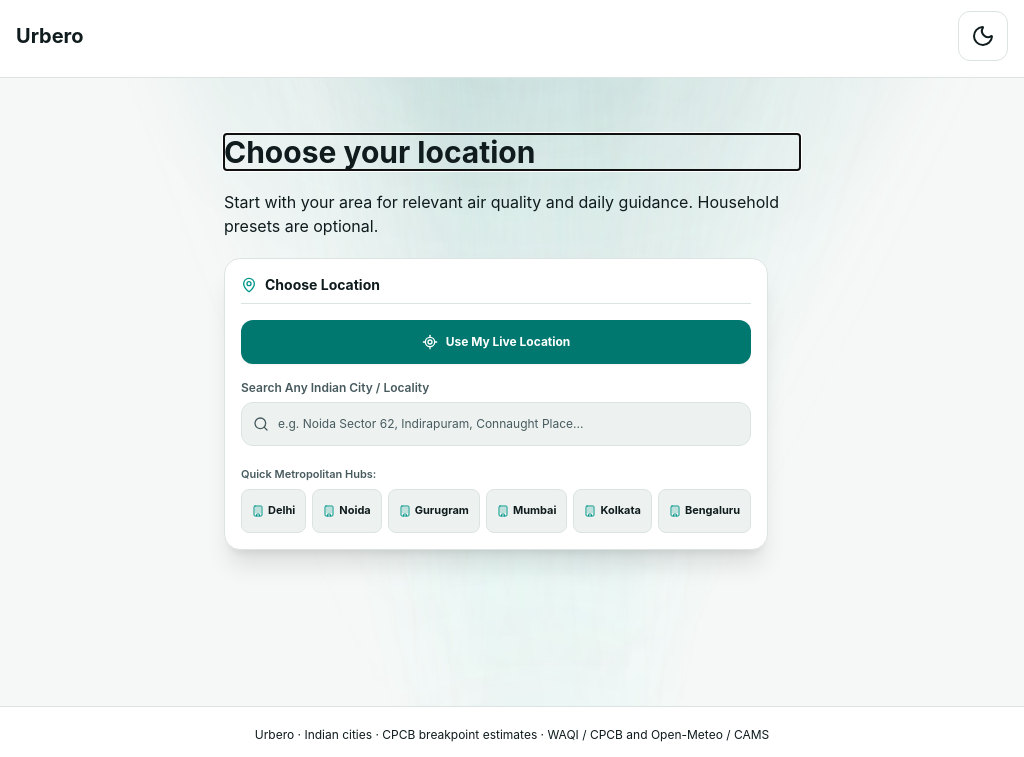
it: App Integration & Accessibility › sends a travel question for the selected location and displays the validated suggestion
This screenshot has width=1024, height=757.
Click the button "Noida" at (347, 510), box top-left (312, 488), bottom-right (382, 532)
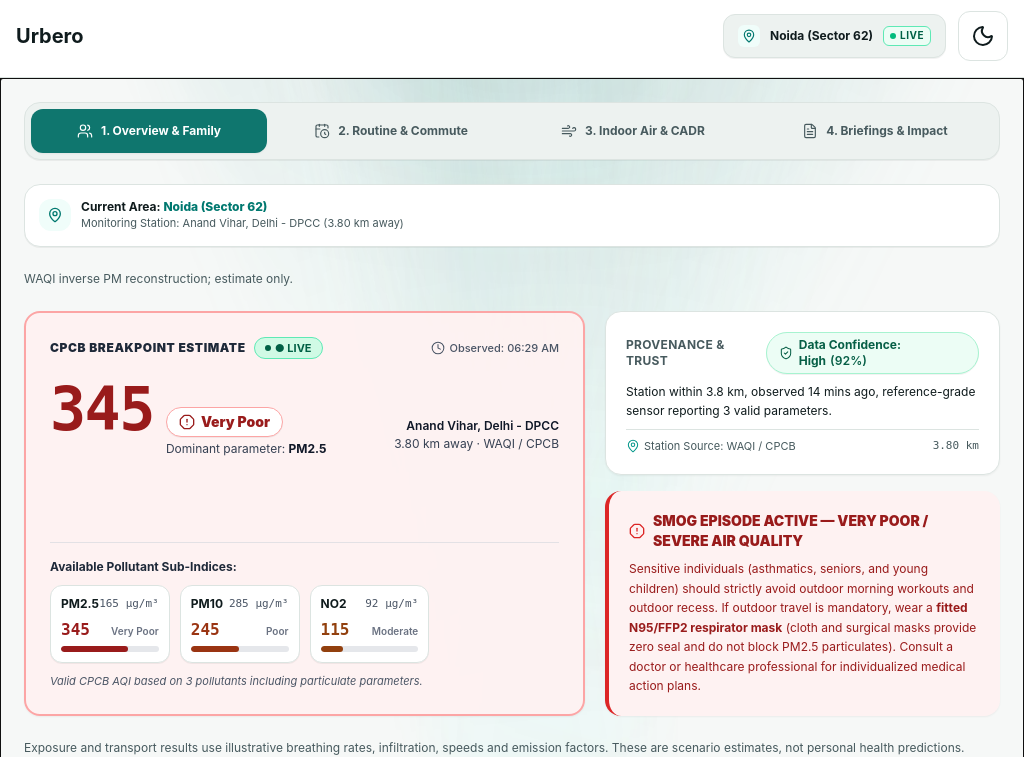
Click the tab "2. Routine & Commute" at (391, 131), box top-left (273, 109), bottom-right (509, 153)
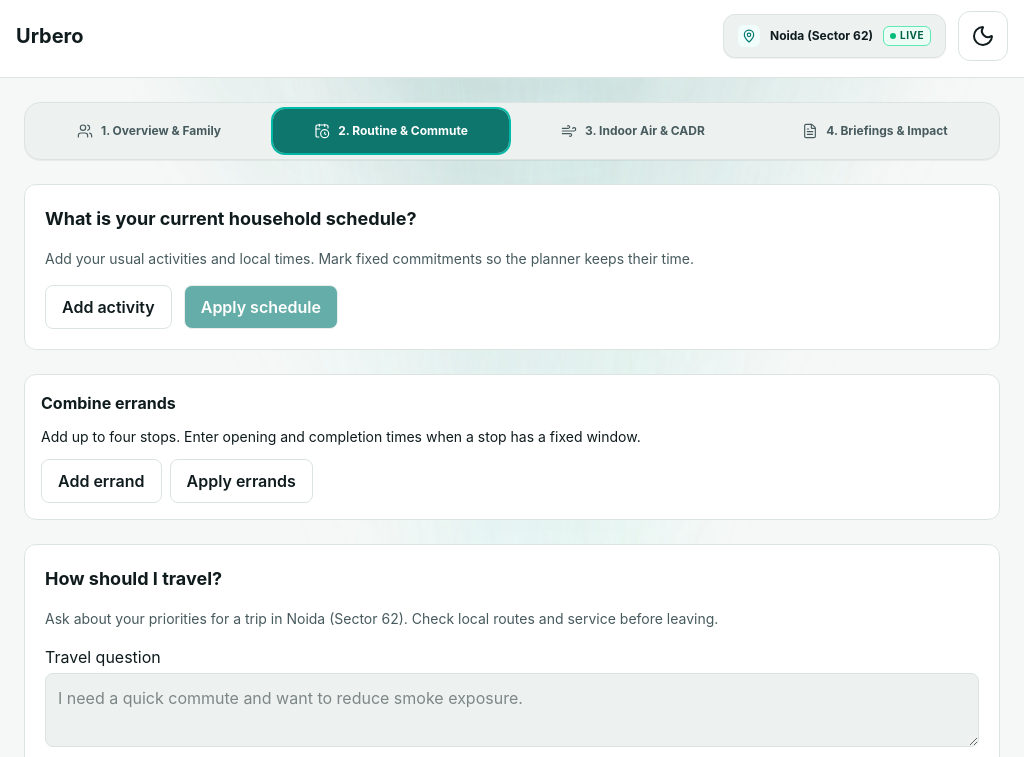
Type "I prefer public transport" into the text box labelled "Travel question" at (512, 710), box top-left (45, 673), bottom-right (979, 747)
(page scrolled)
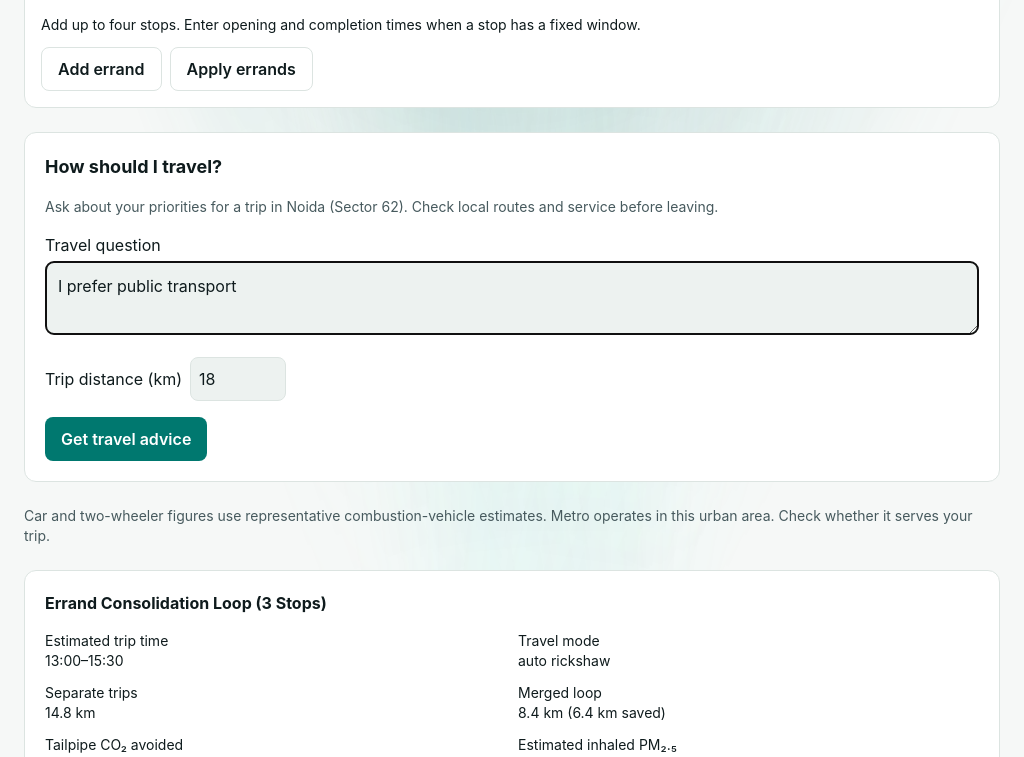
Replace the text in the number field labelled "Trip distance (km)" with "4" at (238, 379), box top-left (190, 357), bottom-right (286, 401)
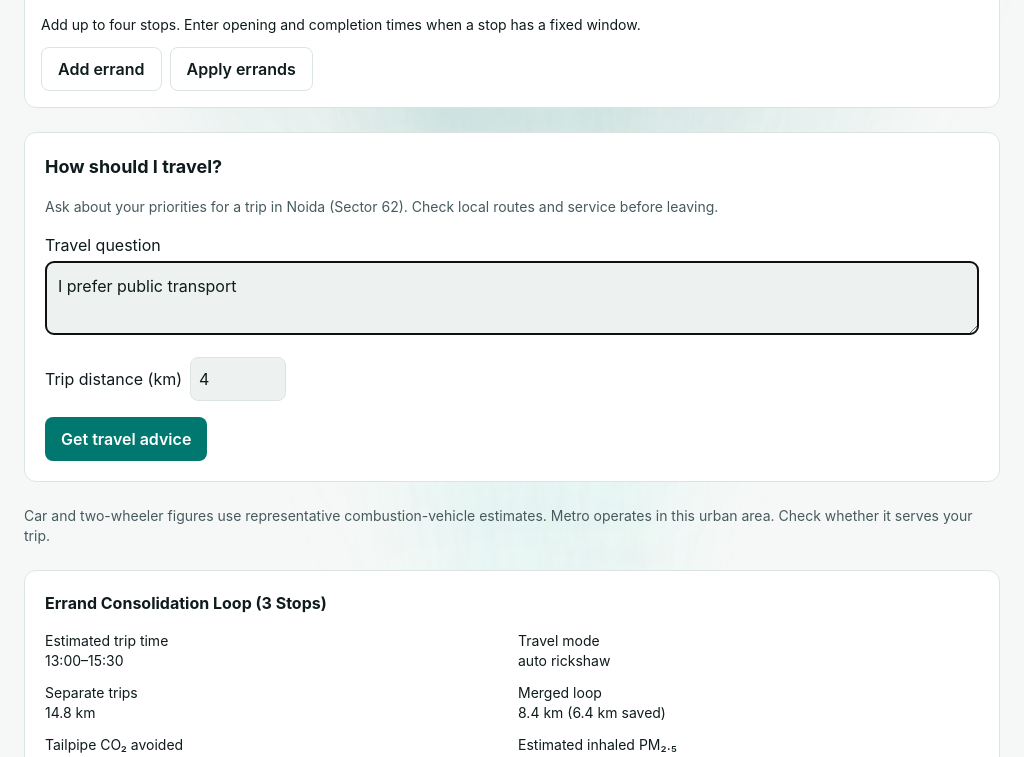
Click the button "Get travel advice" at (126, 439), box top-left (45, 417), bottom-right (207, 461)
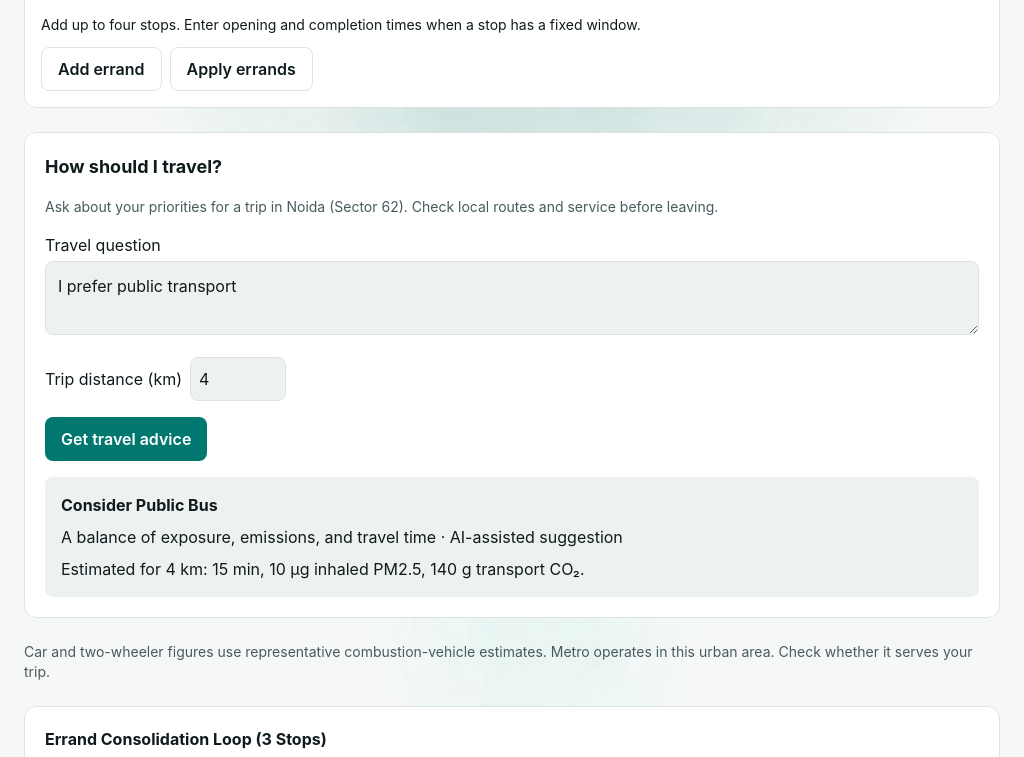
Result: the text "Consider Public Bus" is shown at top-left (61, 495), bottom-right (218, 515)
